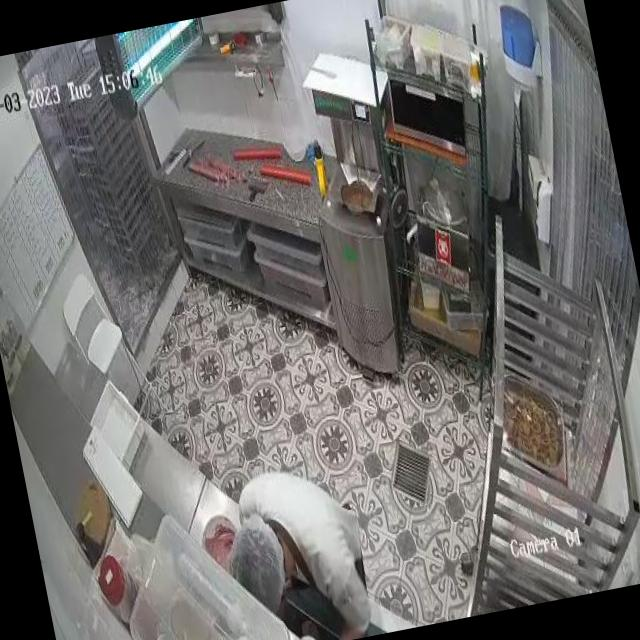hairnet: (223, 518, 284, 588)
